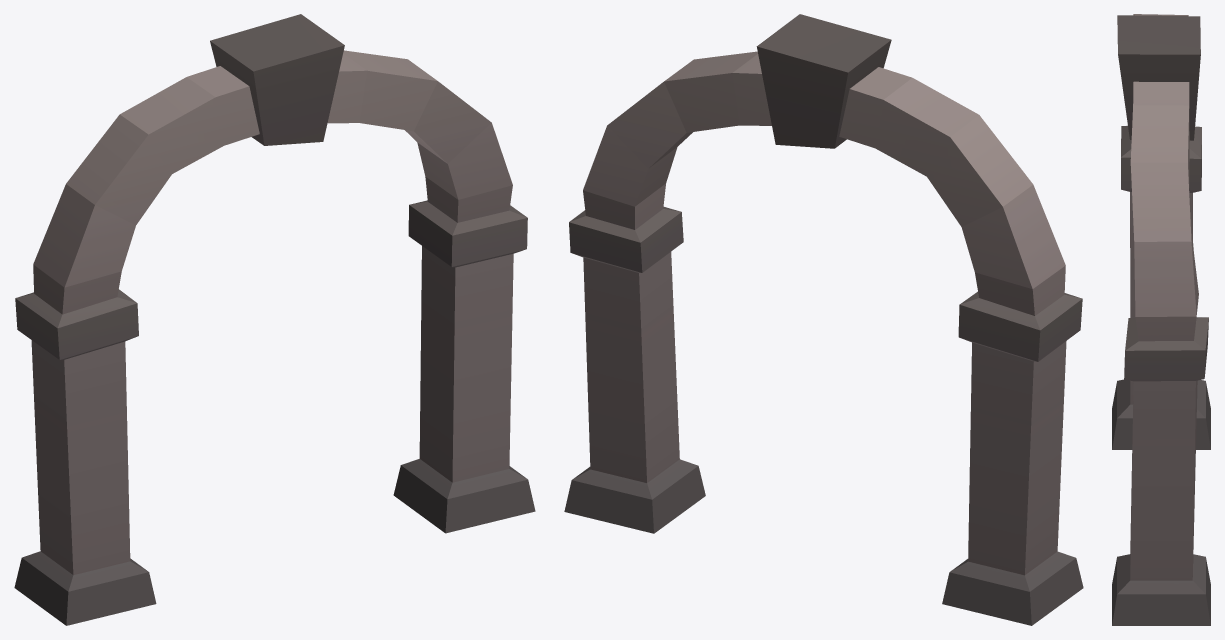
Rendered from Arch.obj.
The picture shows the model from 3 angles, left to right: view 1: azimuth 30°, elevation 25°; view 2: azimuth 150°, elevation 25°; view 3: azimuth 270°, elevation 25°; orthographic projection. The views are drawn at different scales.
Parts seen in each view (by area): view 1: {mesh}Arch_Cube.020; view 2: {mesh}Arch_Cube.020; view 3: {mesh}Arch_Cube.020.
Part boxes in pixels (<box>): {mesh}Arch_Cube.020: <box>14,14,535,625</box>; {mesh}Arch_Cube.020: <box>564,14,1083,625</box>; {mesh}Arch_Cube.020: <box>1112,14,1210,625</box>.
Bounding box in the file's own units: 99.29 × 102 × 18.9.
Materials: 1 (1 with a texture image).
